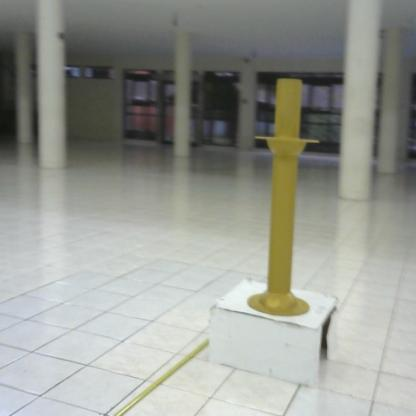pole: (242, 70, 323, 324)
